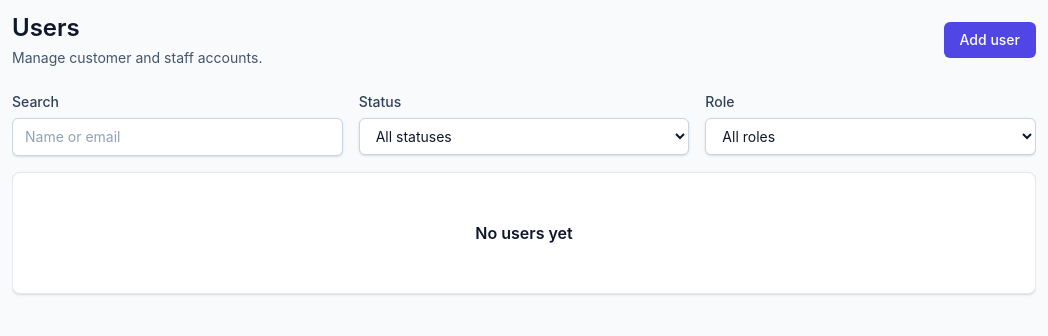
Scenario: UsersPage › shows an empty state, distinguishing "no users" from "no matches"
Expected: the heading "No users yet" is shown, [475,221,573,245]
Step 1. Select "Agent" in the dropdown labelled "Role" → (871, 136), box [705,118,1036,155]
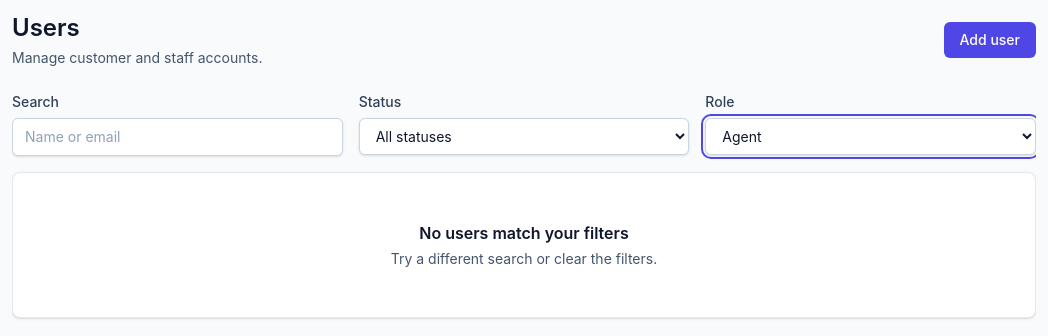
Expected: the heading "No users match your filters" is shown, [419,221,629,245]
